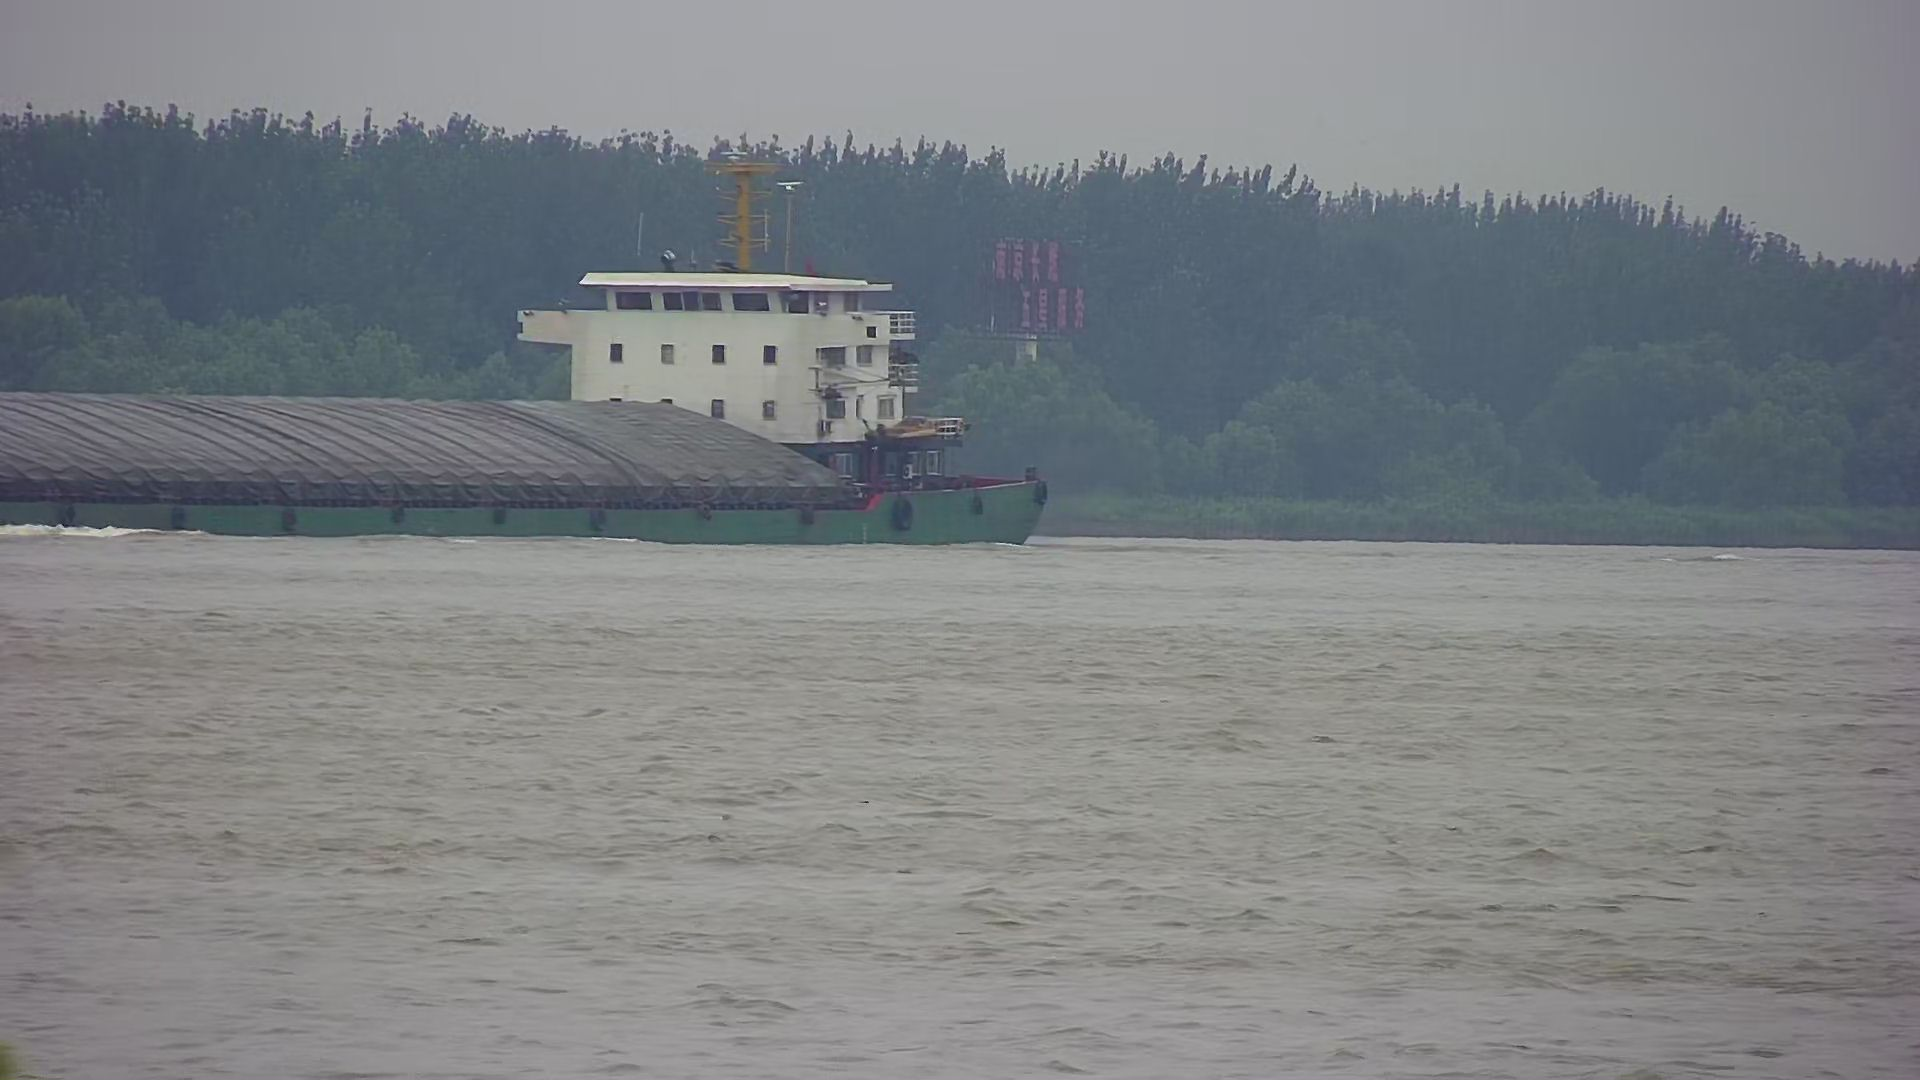ship: (1, 152, 1051, 574)
